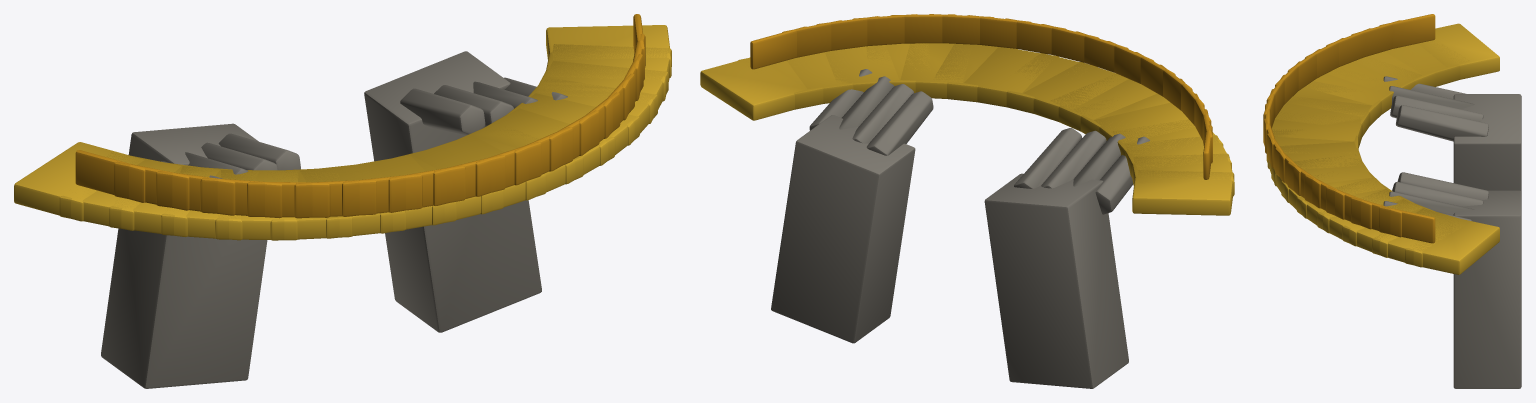
Rendered from lm-goldenbridge.glb.
3 views of the same model, side by side, from view 1: azimuth 30°, elevation 25°; view 2: azimuth 150°, elevation 25°; view 3: azimuth 270°, elevation 25° (orthographic). The views are drawn at different scales.
Size of the model in its own units: 9.91 by 4.15 by 4.55.
